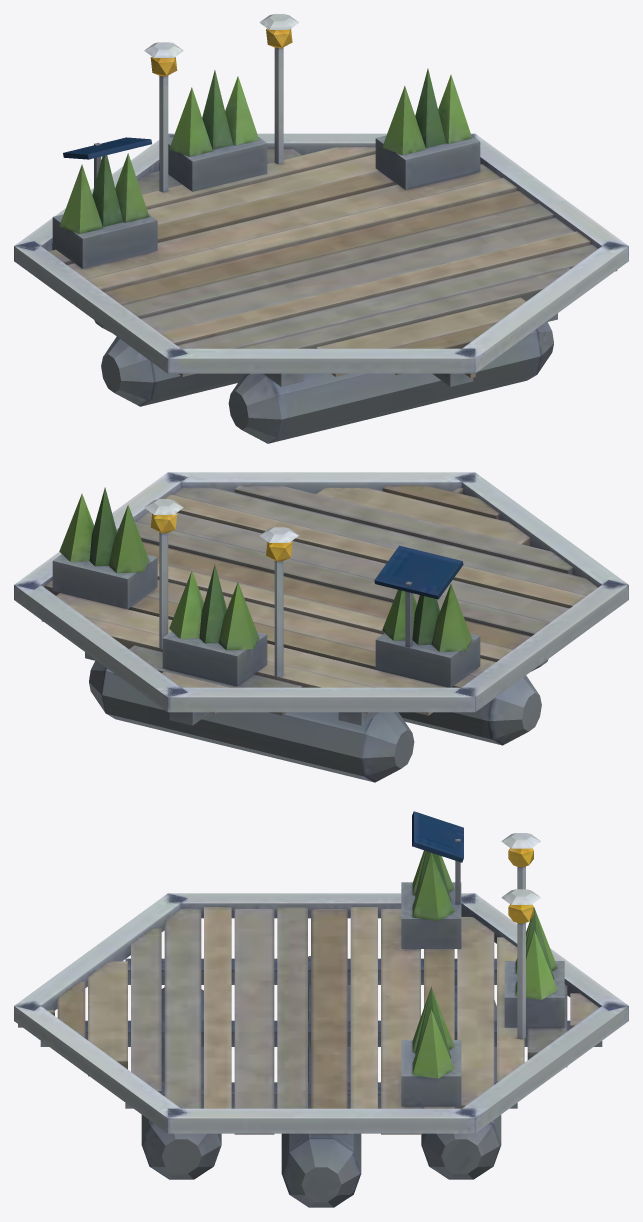
The model's file is raft-c-age20.glb.
The picture shows the model from 3 angles, top to bottom: view 1: azimuth 30°, elevation 25°; view 2: azimuth 150°, elevation 25°; view 3: azimuth 270°, elevation 25°; orthographic projection.
Parts seen in each view (by area): view 1: raft-c-age20; view 2: raft-c-age20; view 3: raft-c-age20.
Boxes of the visible parts, box(x1,y1,x2,y2) form: raft-c-age20: box(14, 14, 628, 443); raft-c-age20: box(14, 472, 628, 782); raft-c-age20: box(14, 811, 628, 1207).
Bounding box in the file's own units: 1.6 × 0.8341 × 1.85.
Materials: 1 (1 with a texture image).
